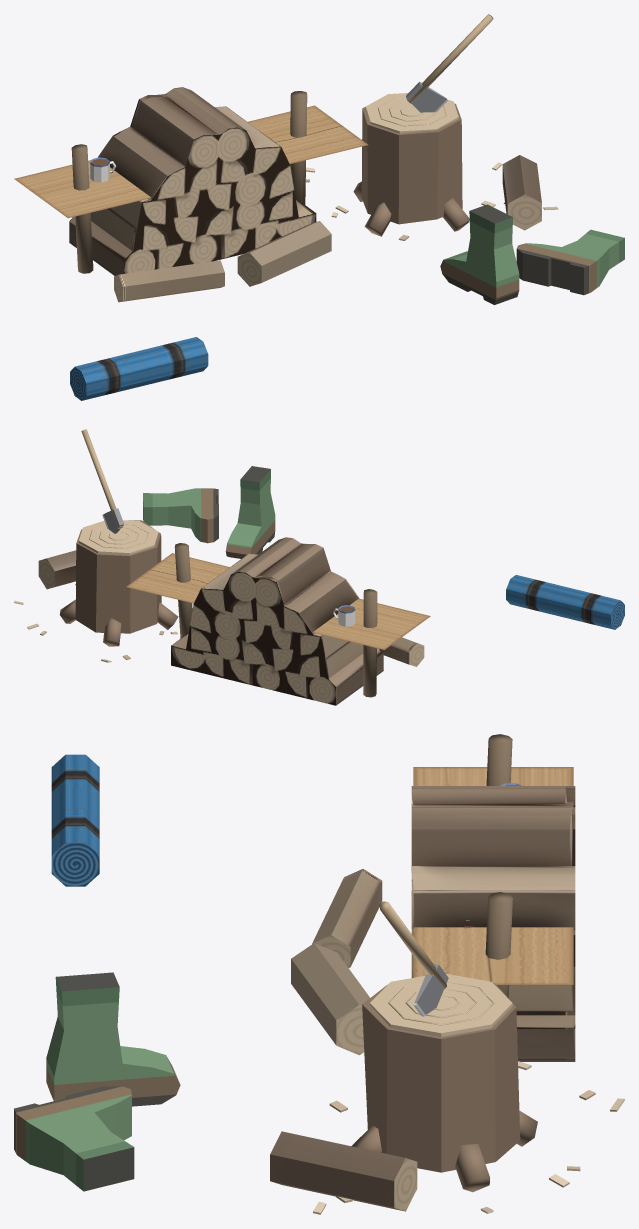
The model's file is lived.glb.
3 views of the same model, one above another, from view 1: azimuth 30°, elevation 25°; view 2: azimuth 150°, elevation 25°; view 3: azimuth 270°, elevation 25° (orthographic). The views are drawn at different scales.
Visible parts, largest first — view 1: WoodStack, WoodPile, TentSide, LooseLogs, SeatTop_0, MatRoll; view 2: WoodStack, WoodPile, TentSide, SeatTop_0, MatRoll, LooseLogs, SeatThings; view 3: WoodPile, WoodStack, TentSide, LooseLogs, SeatTop_0, MatRoll.
Boxes of the visible parts, x1,y1,x2,y2 form: WoodStack: [69, 87, 316, 275]; WoodPile: [71, 14, 558, 273]; TentSide: [440, 204, 624, 304]; LooseLogs: [114, 155, 541, 302]; SeatTop_0: [14, 105, 368, 218]; MatRoll: [70, 337, 208, 400]; WoodStack: [171, 537, 383, 705]; WoodPile: [14, 429, 377, 697]; TentSide: [143, 466, 275, 558]; SeatTop_0: [126, 553, 430, 649]; MatRoll: [506, 575, 624, 629]; LooseLogs: [38, 550, 424, 666]; SeatThings: [333, 605, 355, 626]; WoodPile: [313, 734, 624, 1214]; WoodStack: [411, 786, 575, 1061]; TentSide: [14, 972, 180, 1191]; LooseLogs: [270, 869, 417, 1211]; SeatTop_0: [413, 767, 573, 984]; MatRoll: [51, 754, 99, 886].
Bounding box in the file's own units: 2.79 × 0.9485 × 1.75.
Materials: 8 (4 with a texture image).
